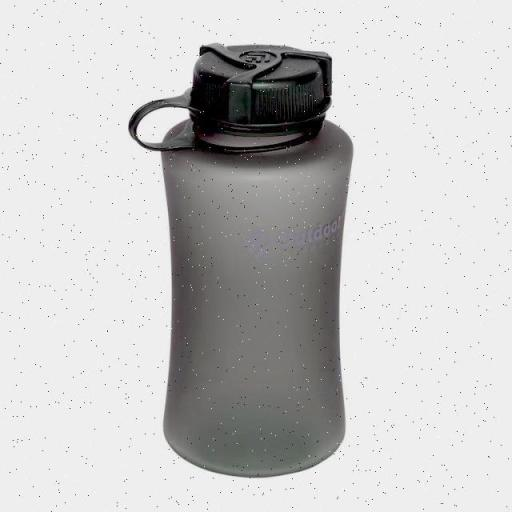bottle: (129, 46, 356, 480)
